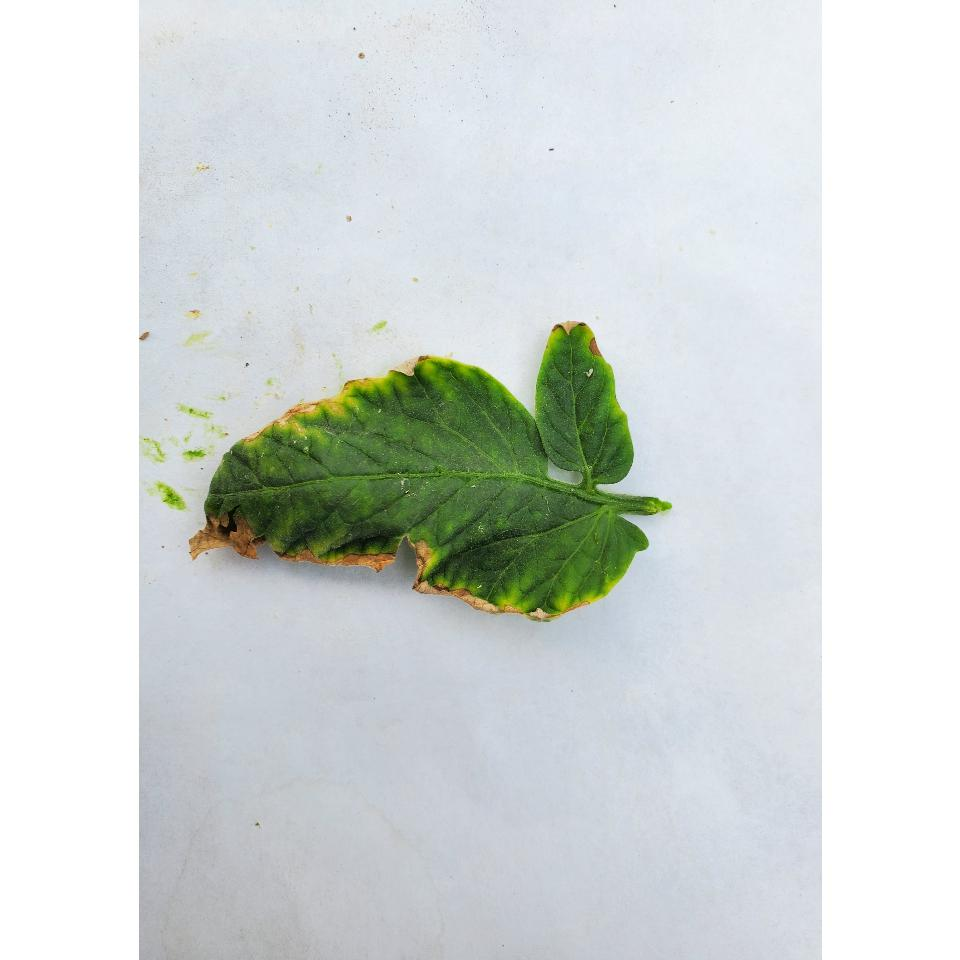tomato_bacterial_blight: (185, 382, 671, 616)
